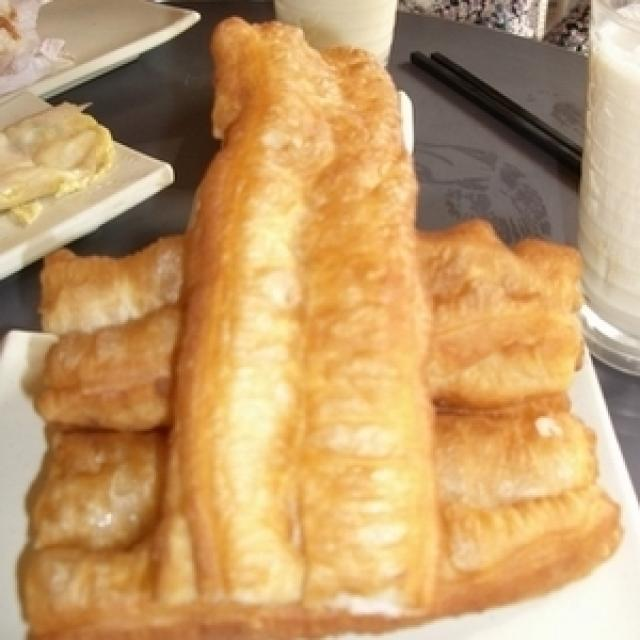炸货点心: (30, 28, 610, 623)
